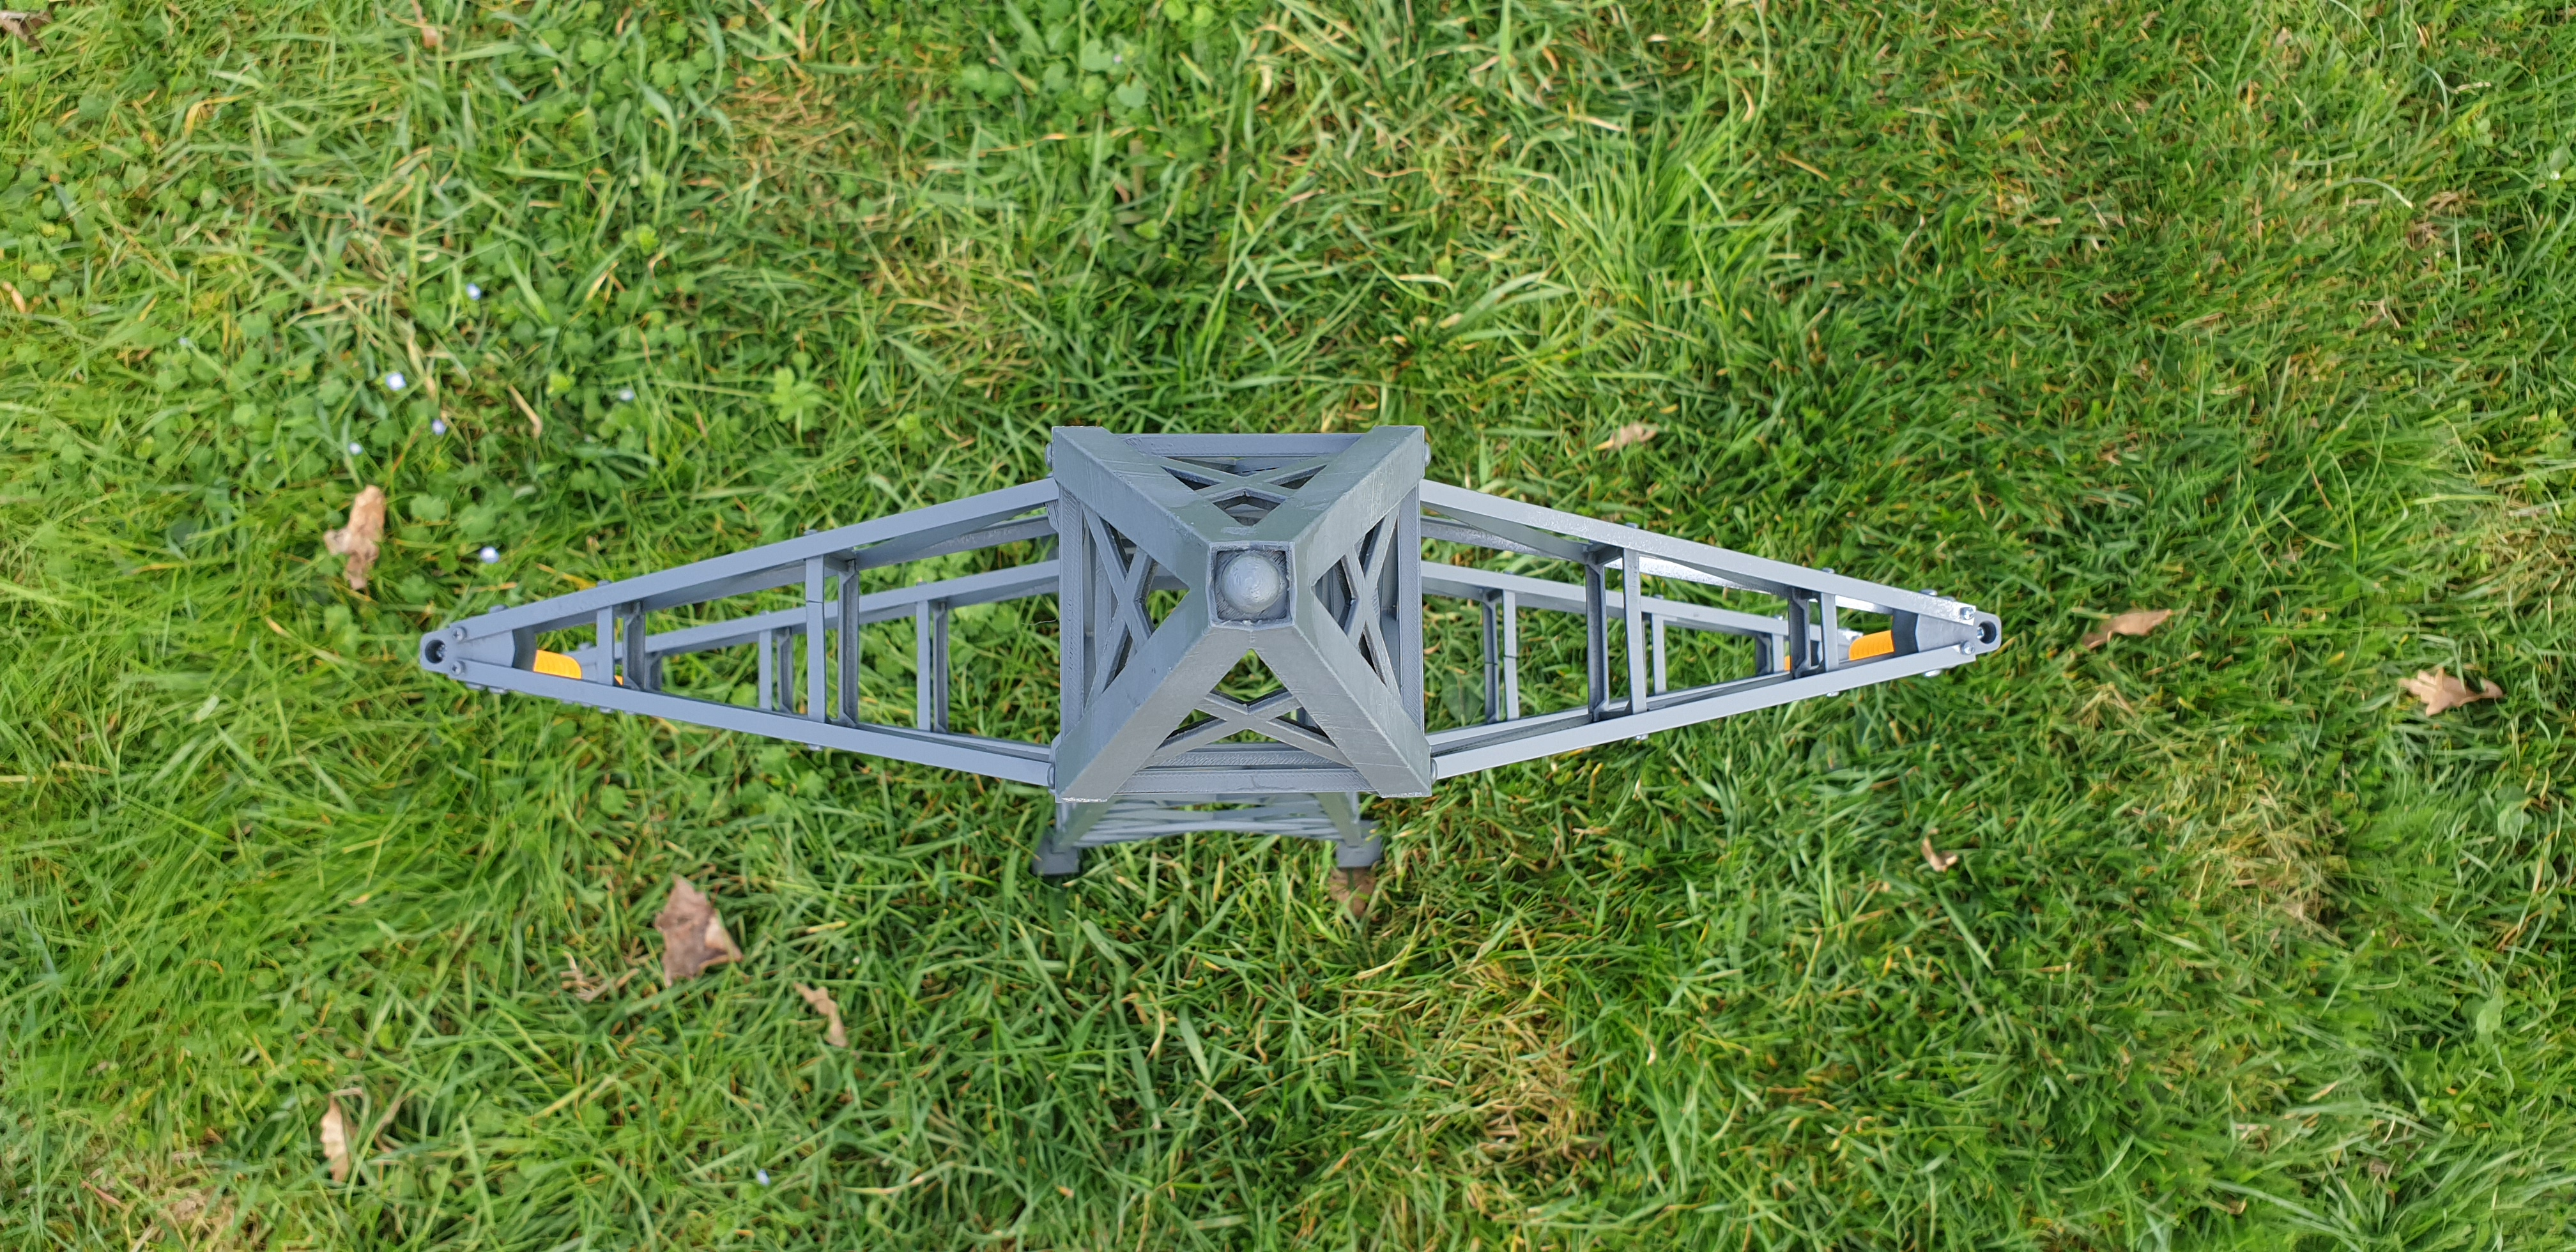pylon_phy: (417, 419, 2009, 812)
